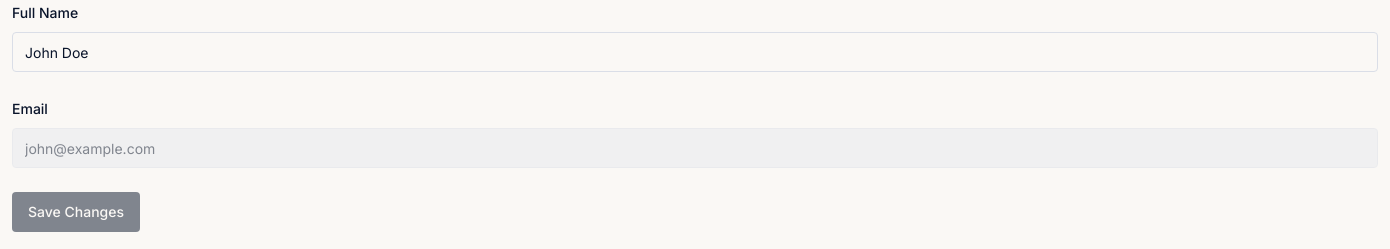
Test: ProfileForm › Task 2.2: Form submission and feedback handling › should reset form dirty state after successful submission
Expected: the button "Save Changes" is disabled, [12,192,140,232]
// Modify the name
Replace the text in the field labelled "Full Name" with "Jane Doe" at (695, 52), box [12,32,1378,72]
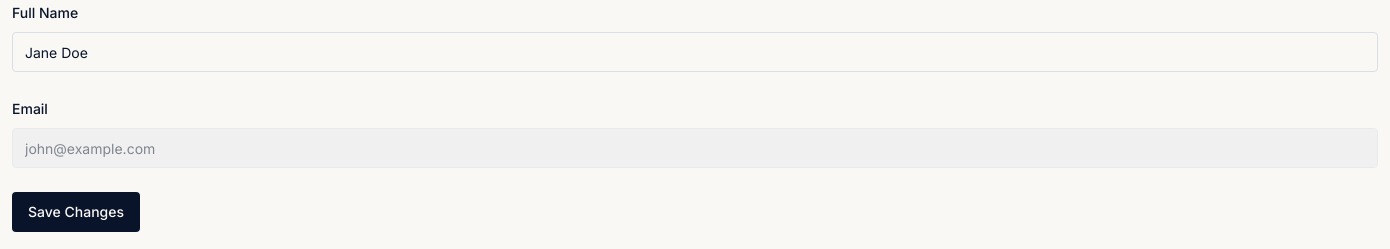
Expected: the button "Save Changes" is enabled
// Submit the form
Click the button "Save Changes".
click(76, 212)  # box [12,192,140,232]
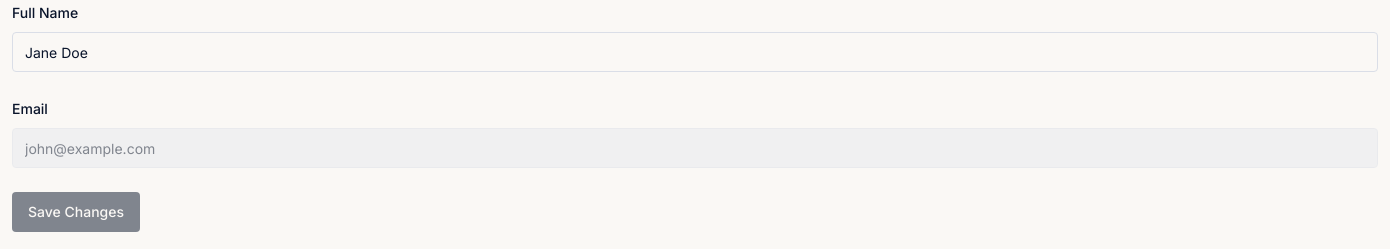
Expected: the button "Save Changes" is disabled, [12,192,140,232]
